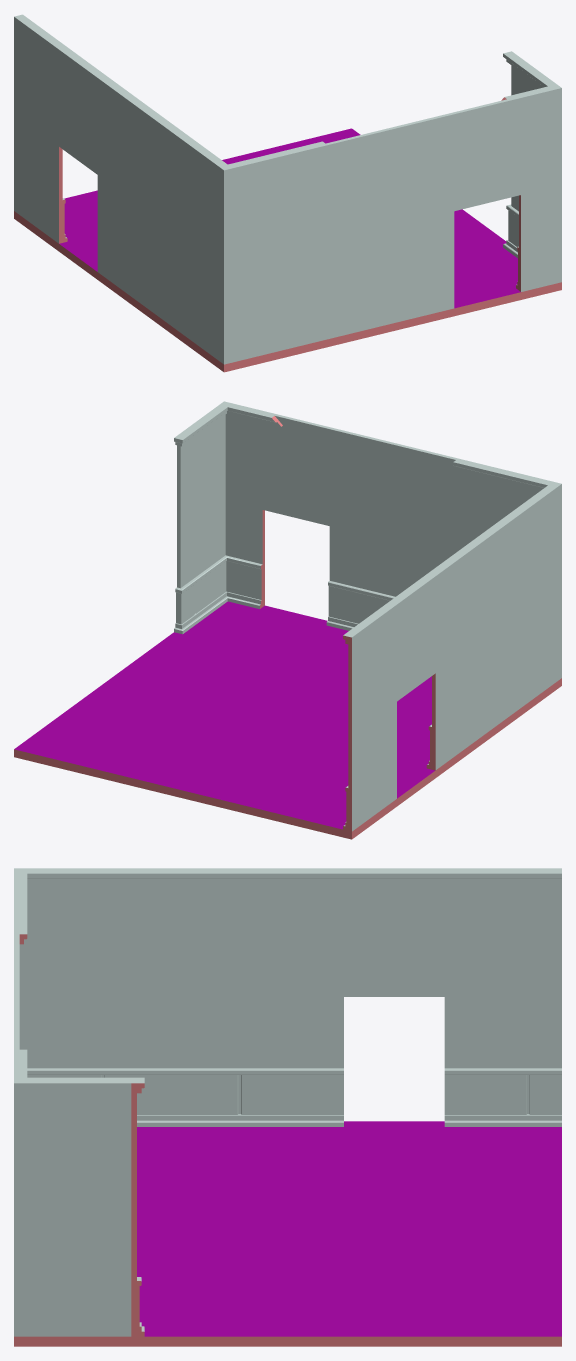
File: Foyer.fbx
3 views of the same model, one above another, from view 1: azimuth 30°, elevation 25°; view 2: azimuth 150°, elevation 25°; view 3: azimuth 270°, elevation 25° (orthographic). The views are drawn at different scales.
Visible parts, largest first — view 1: polySurface216; view 2: polySurface216; view 3: polySurface216.
Boxes of the visible parts, x1,y1,x2,y2 form: polySurface216: (14,14,561,372); polySurface216: (14,401,561,839); polySurface216: (14,868,561,1346).
Size of the model in its own units: 91 by 52 by 98.
